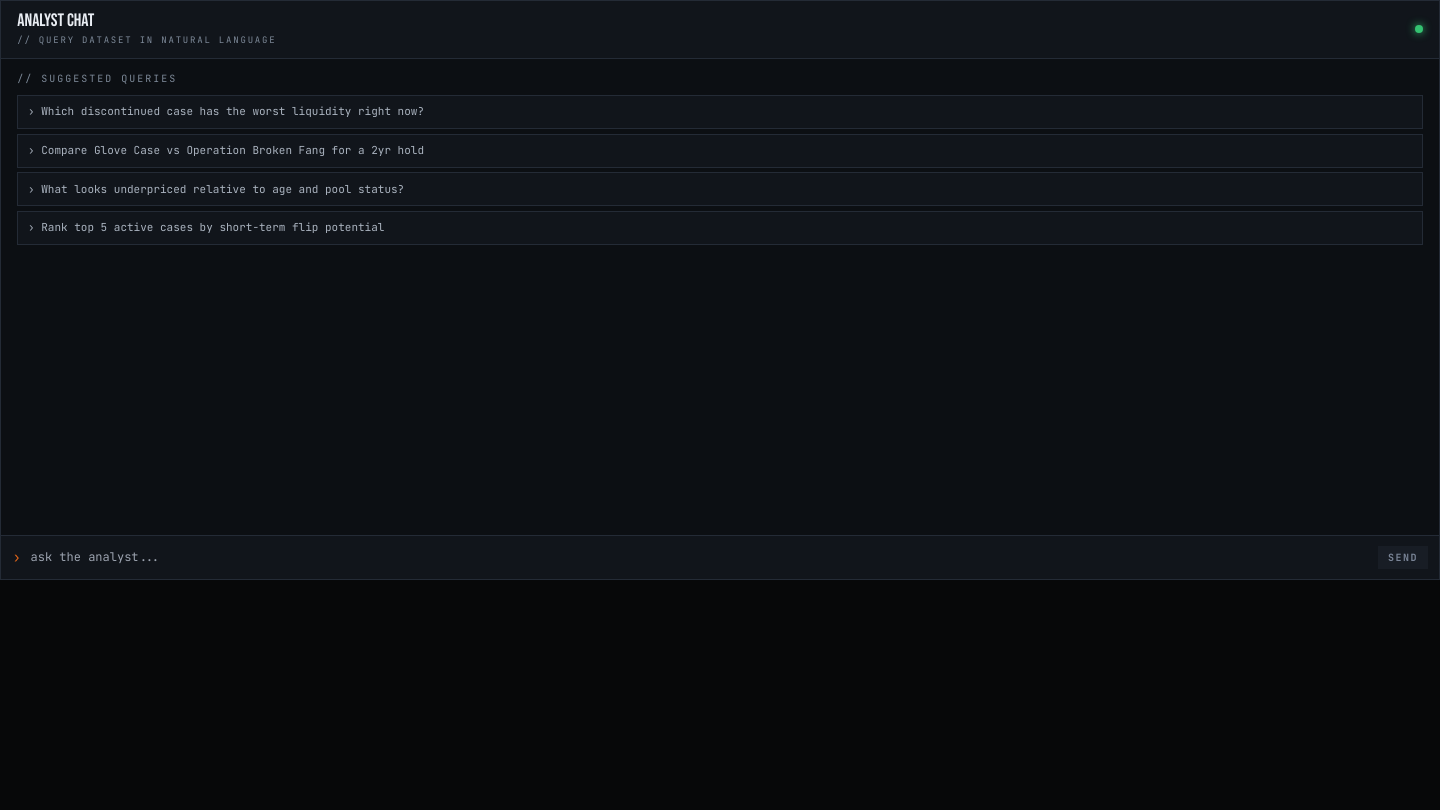
Scenario: ChatPanel streaming send › renders partial assistant deltas as they arrive then finalizes
This screenshot has width=1440, height=810.
Type "hi" into the field with placeholder "ask the analyst...". click: x=699, y=558
box: [27,544,1372,571]
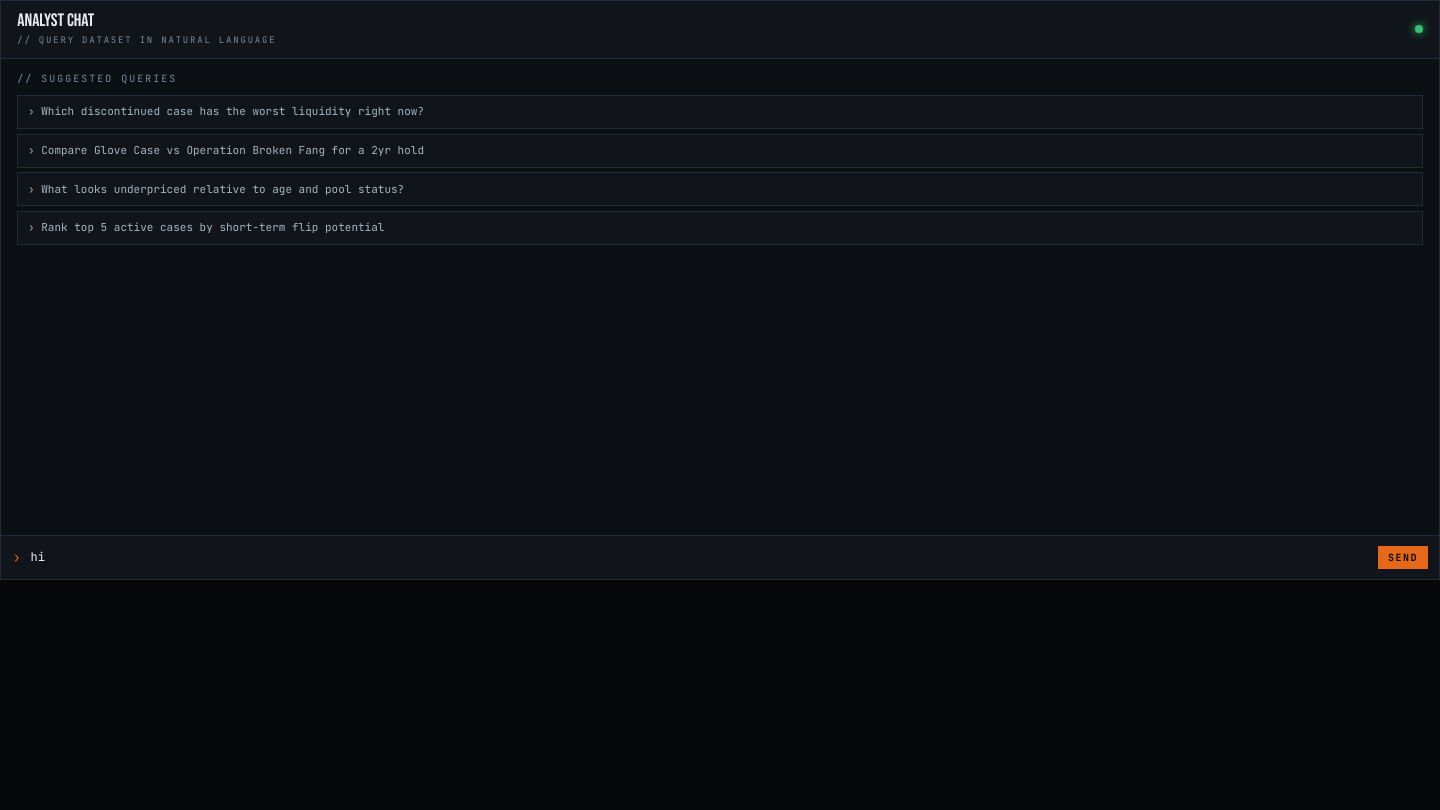
Press Enter in the field with placeholder "ask the analyst...", box [27,544,1372,571]
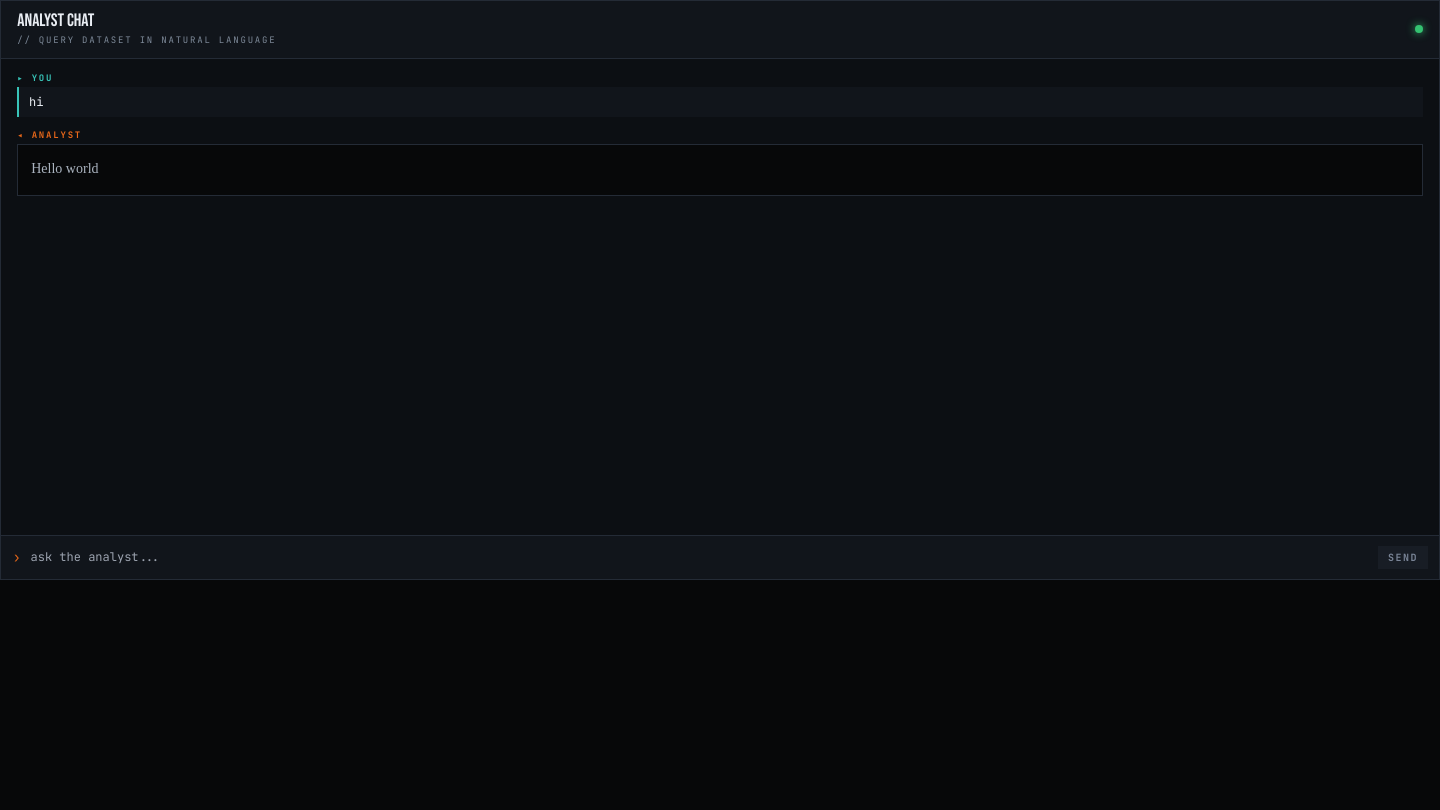
Result: the text "Hello world" is shown at [31,161,99,176]
